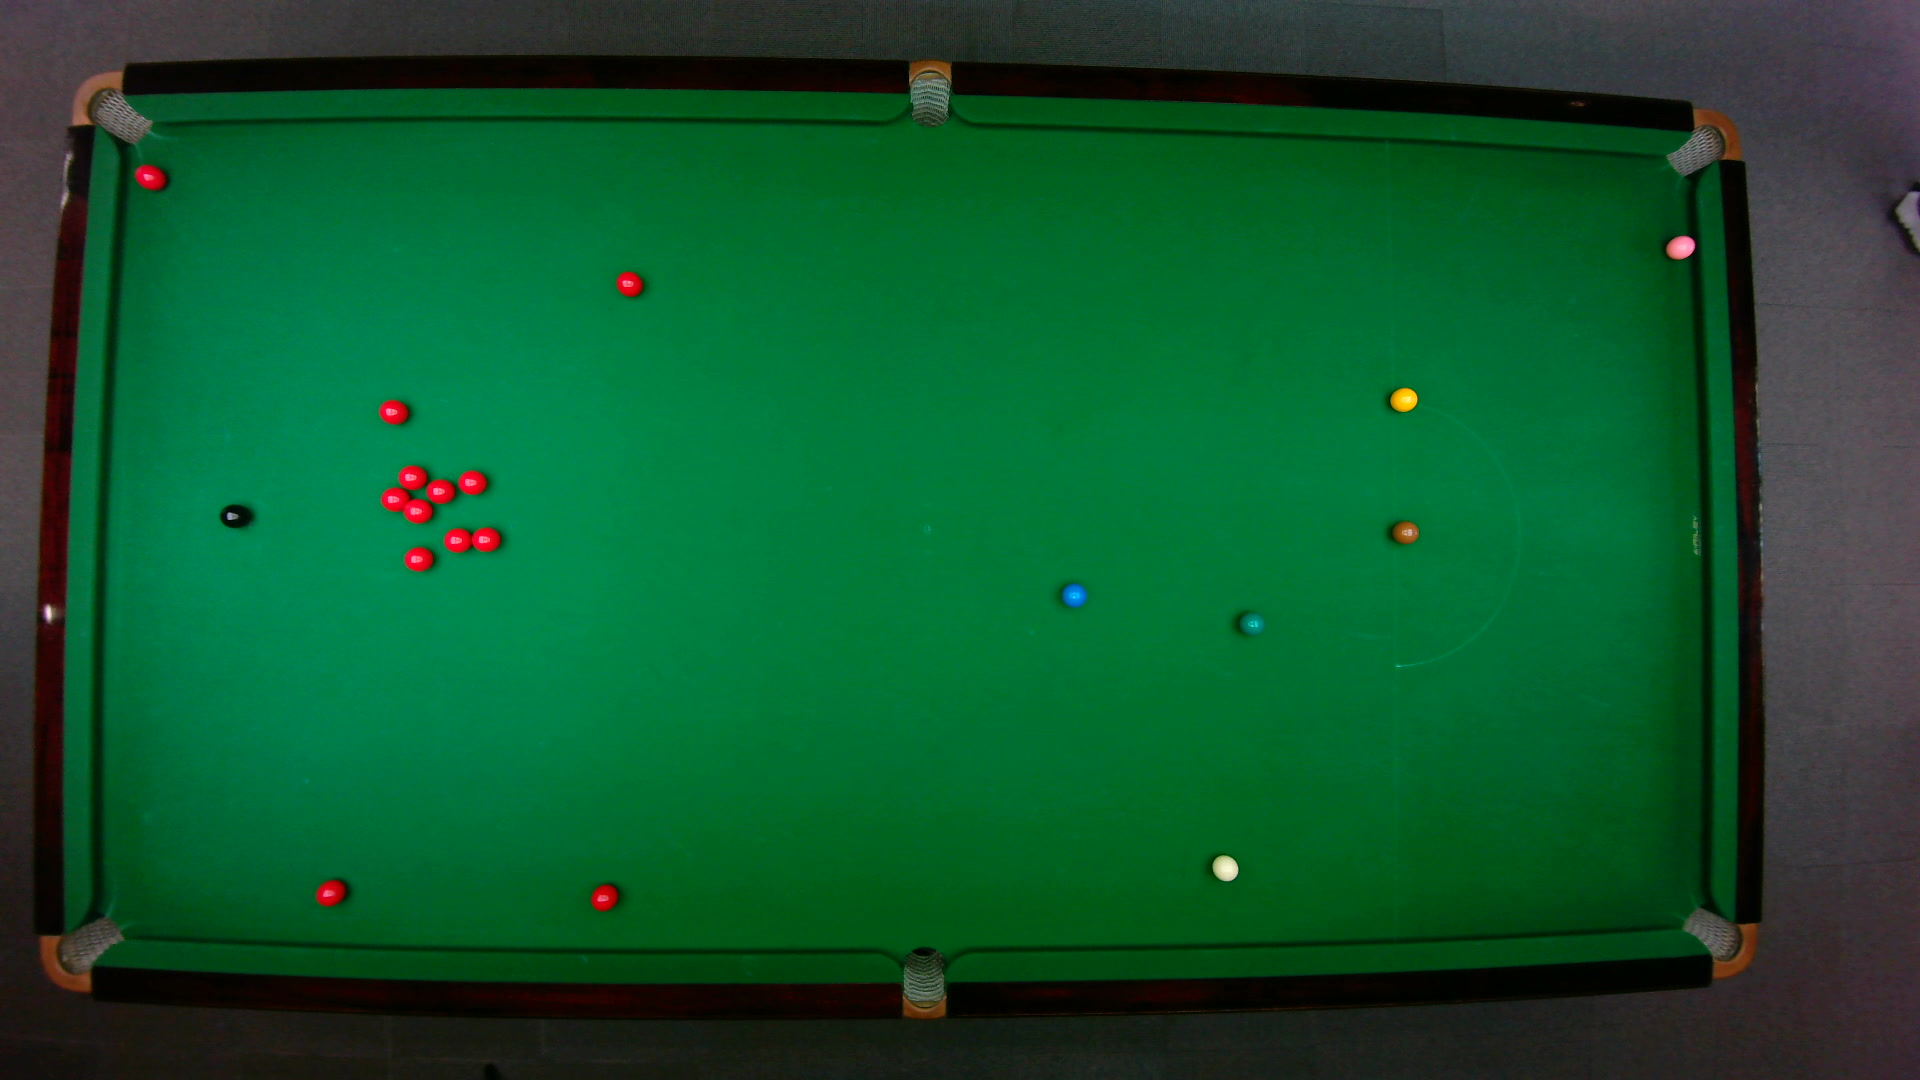bag: (37, 914, 125, 992), (69, 69, 152, 142), (1677, 905, 1756, 978), (1663, 107, 1741, 177), (901, 944, 944, 1021), (909, 57, 949, 128)
black: (218, 502, 251, 529)
blue: (1059, 582, 1088, 607)
brown: (1390, 520, 1419, 545)
green: (1237, 611, 1265, 636)
pink: (1663, 232, 1697, 260)
red: (132, 162, 167, 191), (314, 877, 347, 906), (396, 462, 429, 491), (442, 525, 473, 554), (469, 524, 501, 553), (401, 496, 433, 524), (402, 545, 434, 572), (378, 484, 410, 512), (422, 477, 456, 502), (589, 882, 618, 911), (377, 398, 409, 425), (615, 269, 644, 297), (456, 468, 487, 495)
white: (1209, 853, 1240, 882)
yellow: (1387, 385, 1418, 411)
zone: (1390, 401, 1520, 669)
